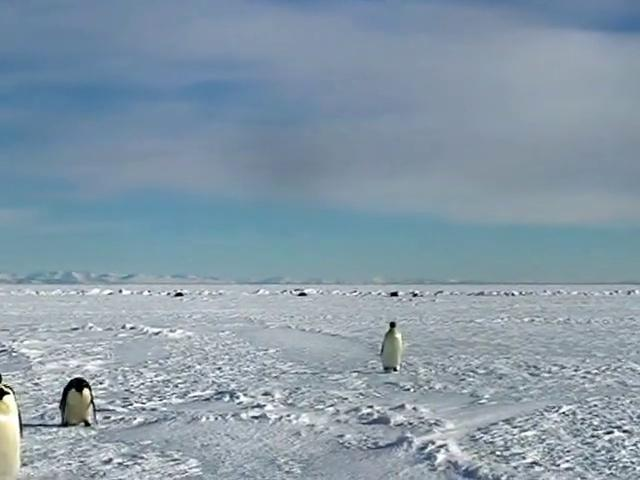animal: (60, 379, 97, 426)
